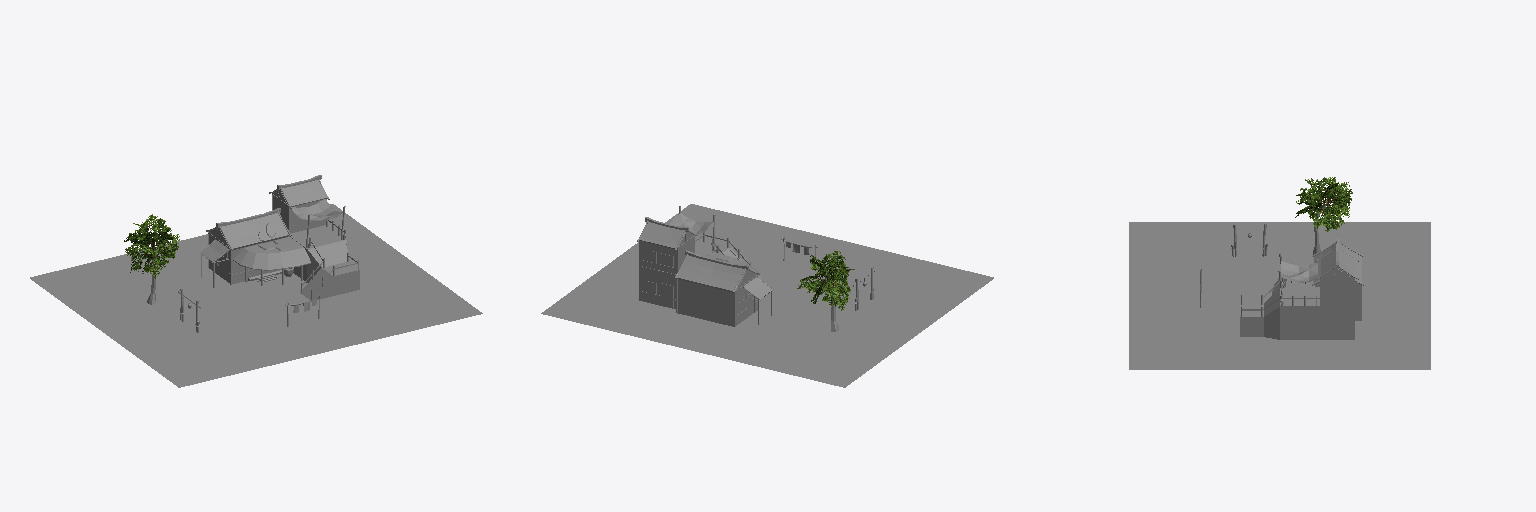
3 views of the same model, side by side, from view 1: azimuth 30°, elevation 25°; view 2: azimuth 150°, elevation 25°; view 3: azimuth 270°, elevation 25° (orthographic).
Visible parts, largest first — view 1: Plane01; view 2: Plane01; view 3: Plane01.
Boxes of the visible parts, <box> form: Plane01: <box>30,175,482,387</box>; Plane01: <box>541,204,993,387</box>; Plane01: <box>1129,177,1430,369</box>.
Bounding box in the file's own units: 59.62 × 14.91 × 51.1.
4 materials, 1 textured.